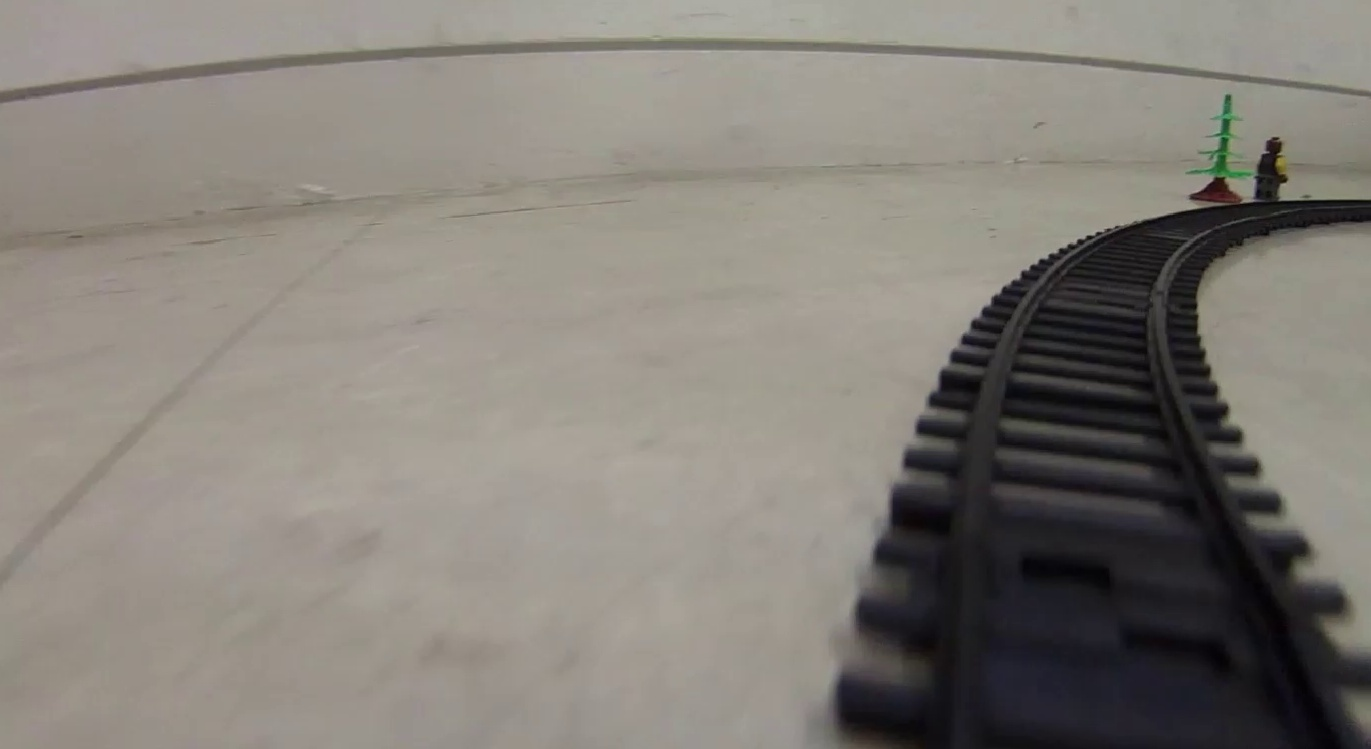people: (1255, 135, 1288, 201)
tree: (1184, 92, 1252, 206)
